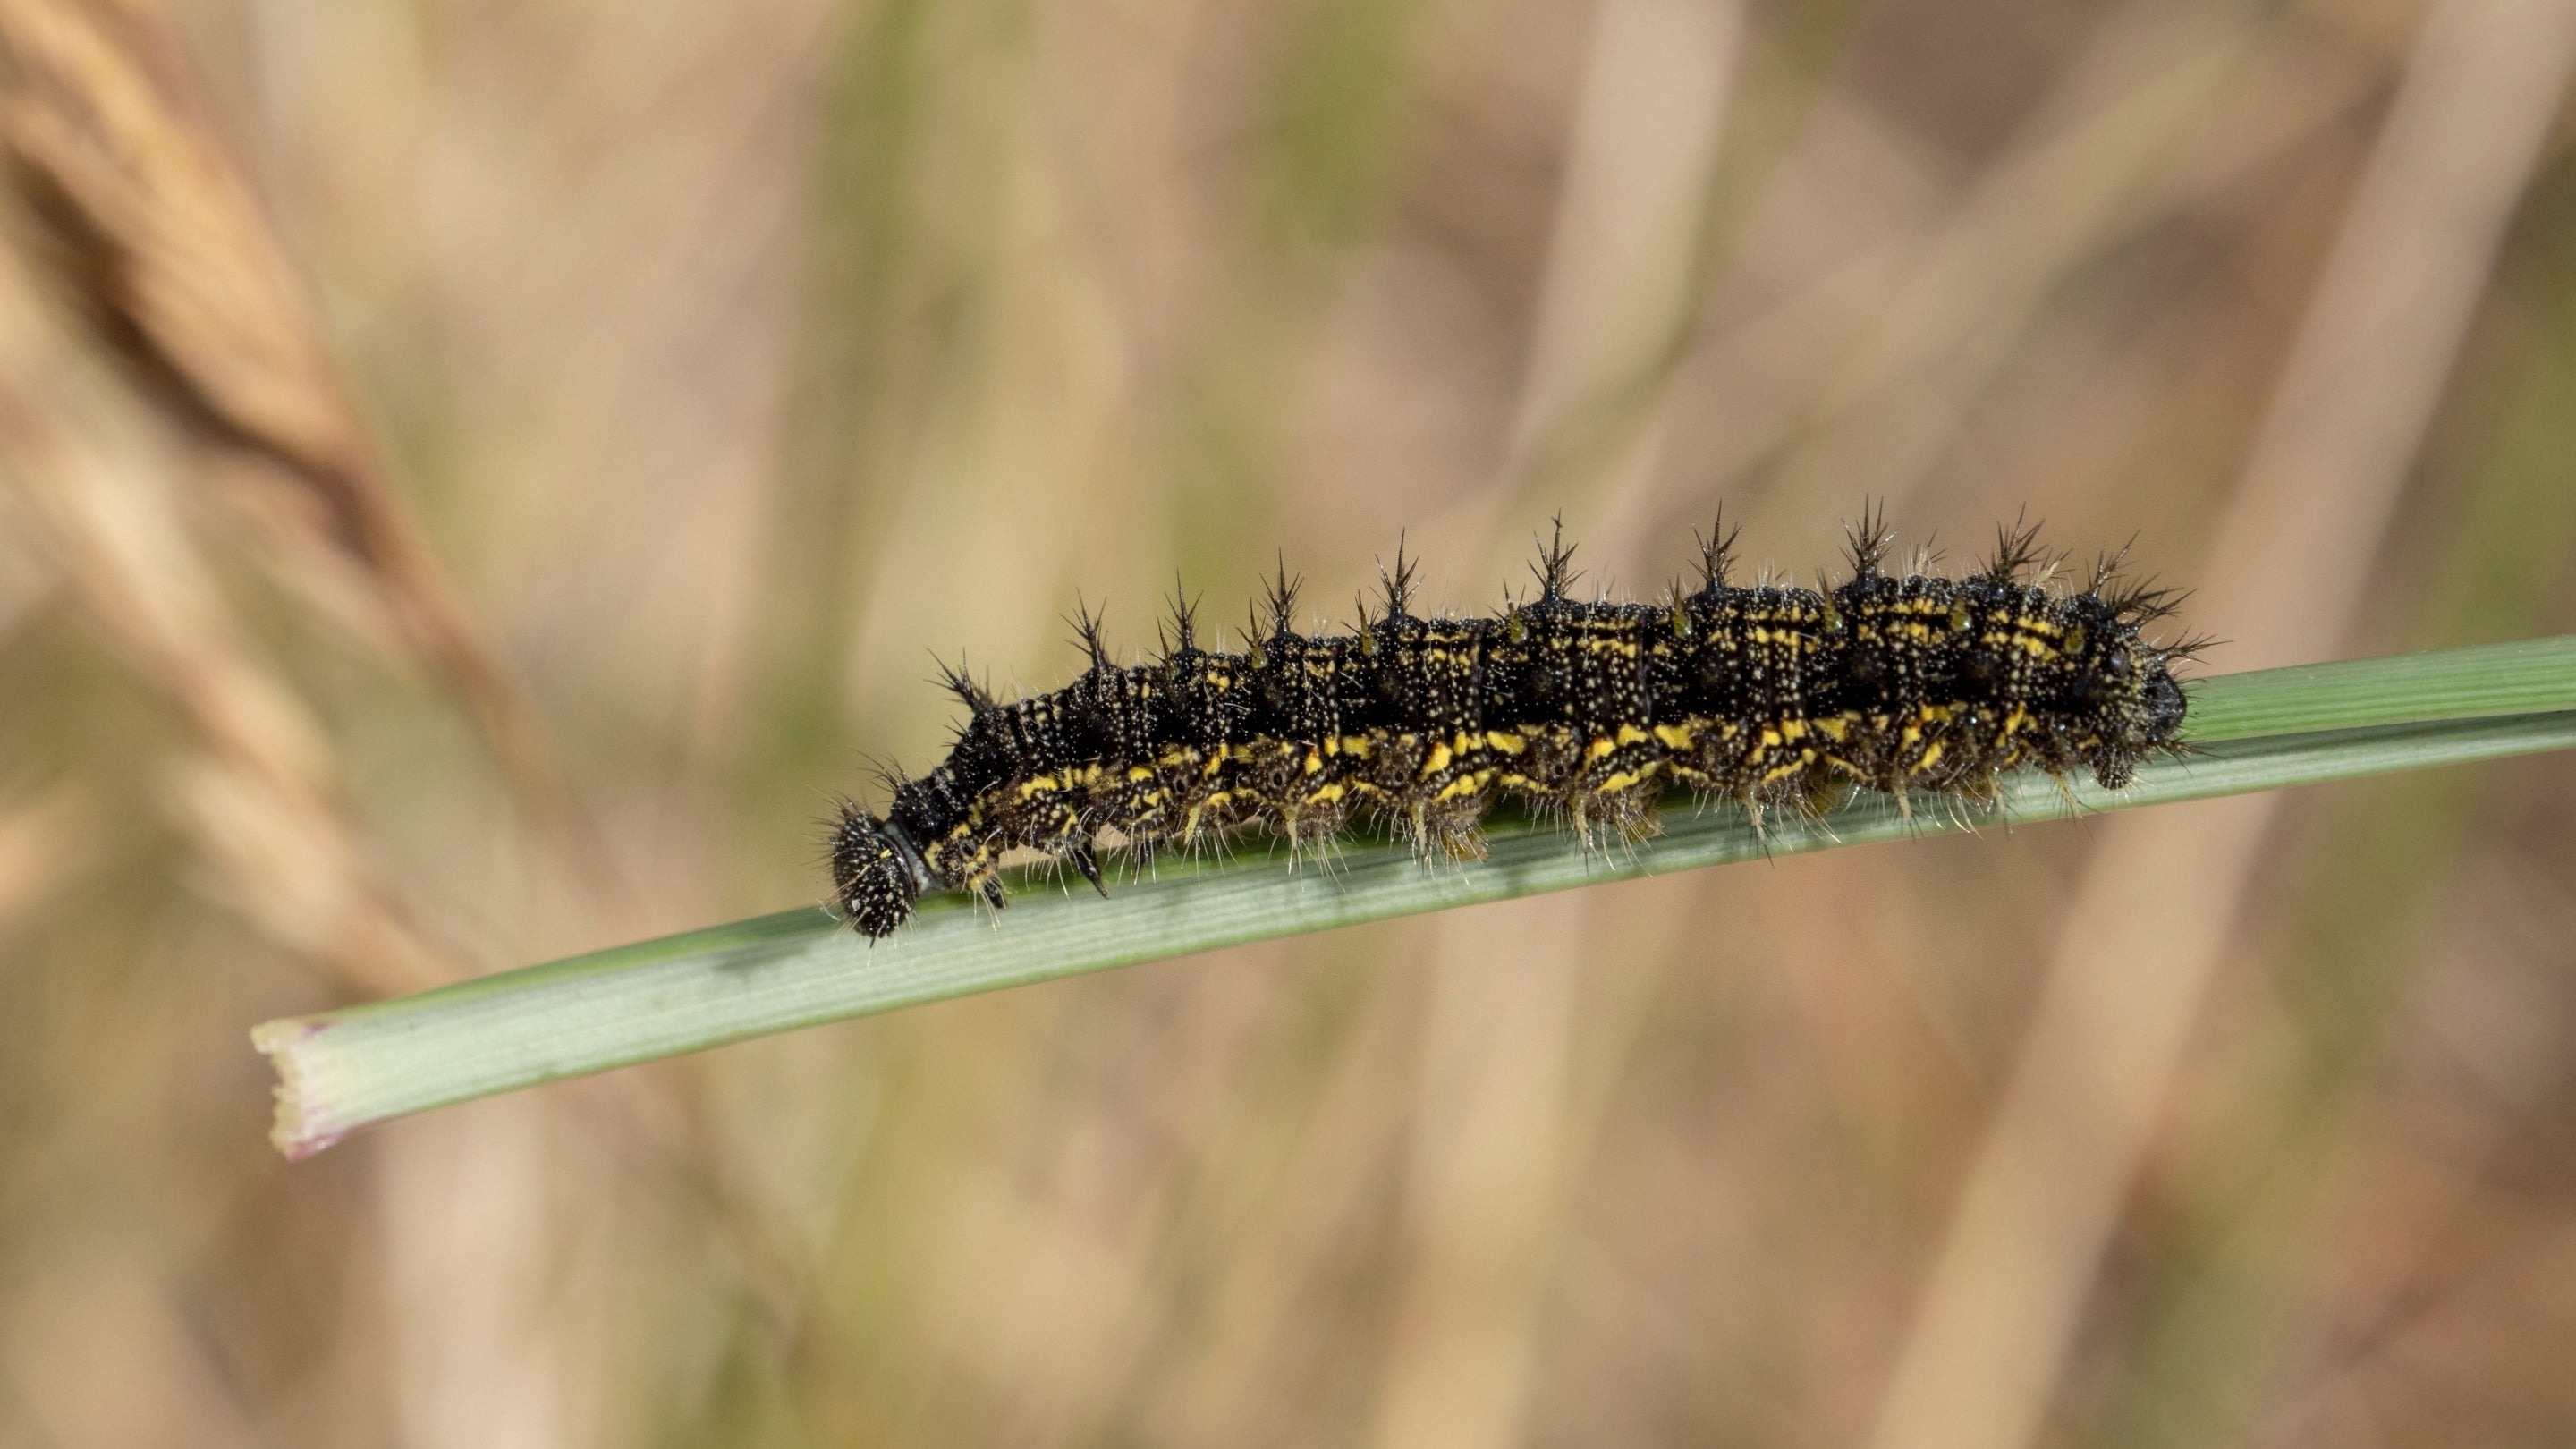Caterpillar: (830, 504, 2192, 941)
